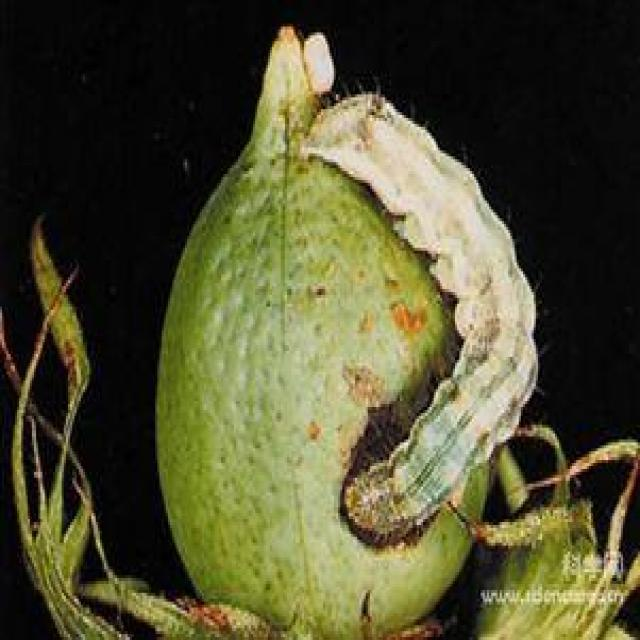BeetArmyWorm-Larva-: (302, 84, 552, 561)
